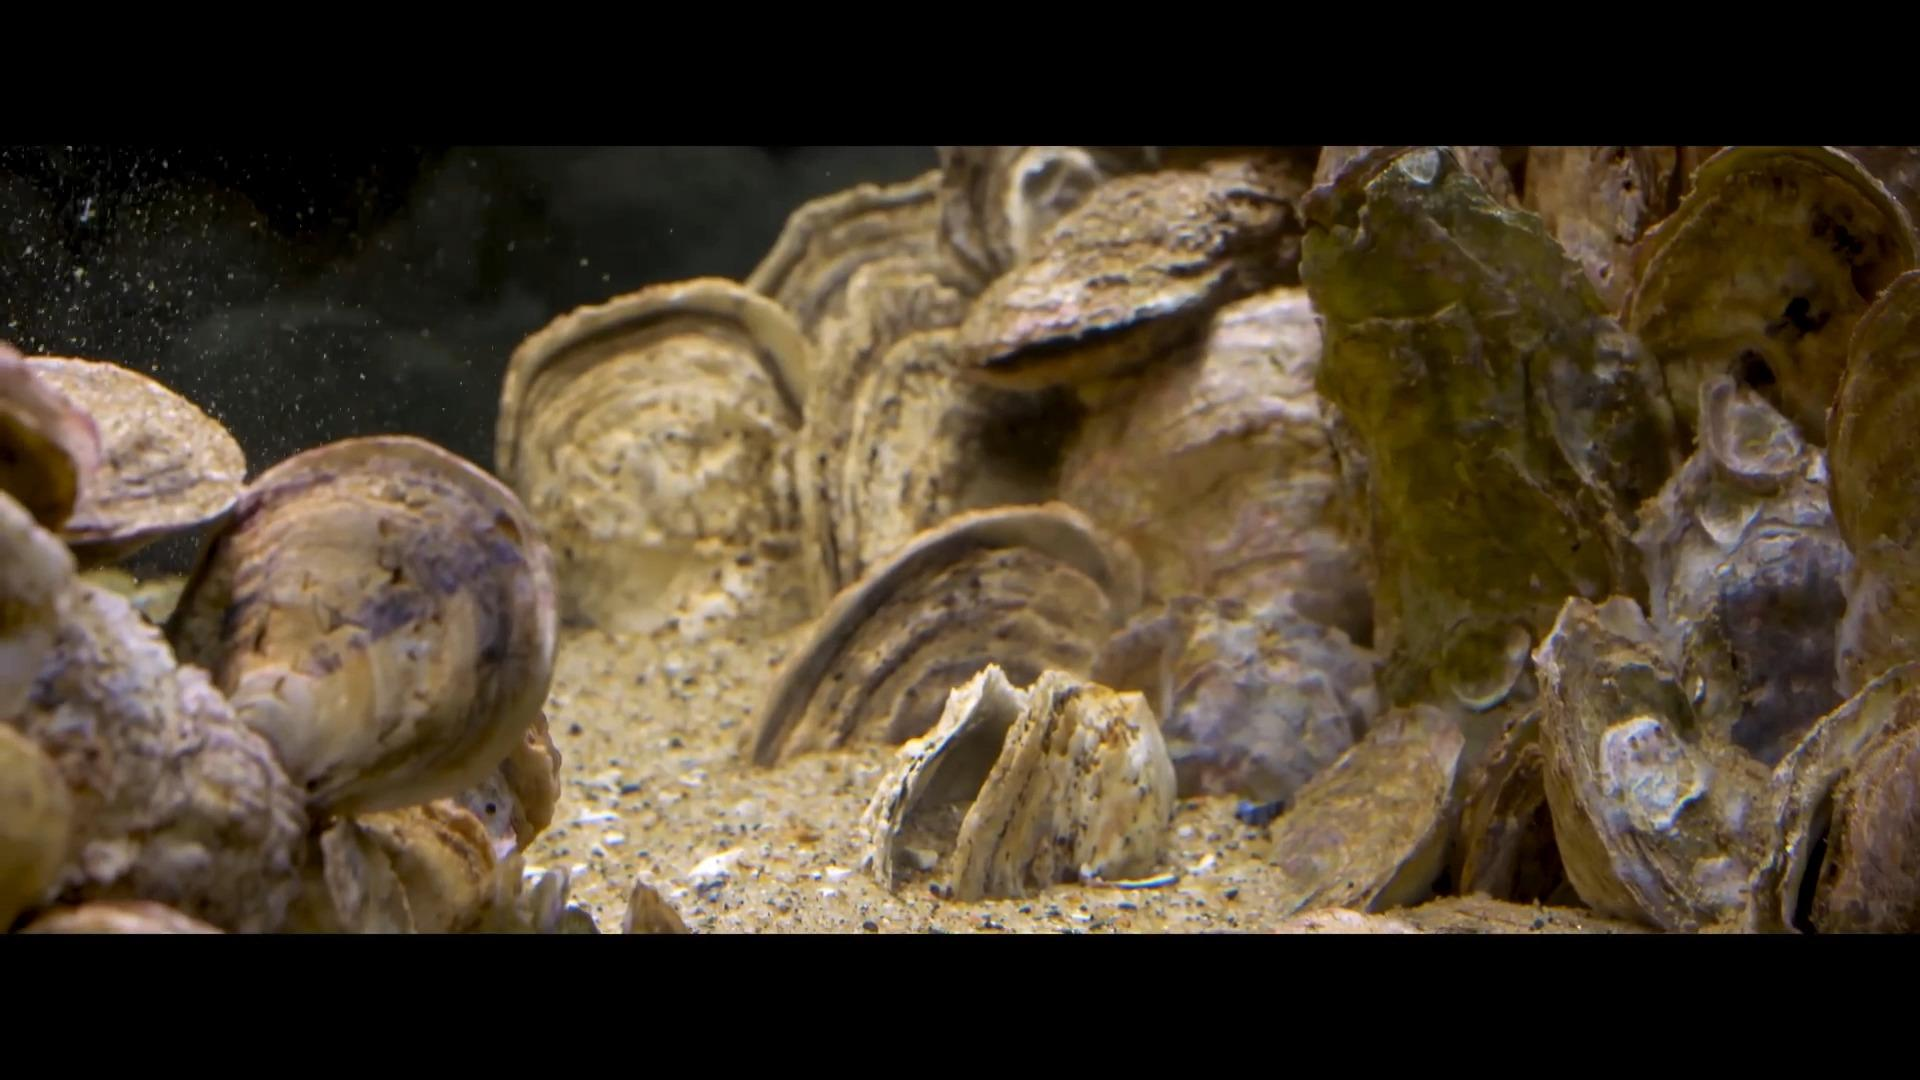Oyster: (1308, 141, 1673, 740), (1059, 295, 1369, 810), (157, 434, 556, 825), (744, 185, 1062, 578), (498, 276, 819, 632), (7, 574, 313, 931), (756, 498, 1135, 762), (1625, 144, 1909, 458), (955, 158, 1309, 394), (1531, 593, 1764, 930), (880, 675, 1180, 901), (1303, 145, 1704, 310), (11, 349, 252, 559), (1263, 696, 1468, 920), (1764, 658, 1917, 928), (939, 140, 1146, 289), (320, 791, 520, 936), (620, 877, 698, 934)
